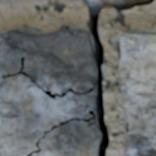brick: (0, 75, 95, 155), (0, 30, 96, 92), (119, 33, 155, 155), (33, 120, 100, 155)
crack: (0, 0, 154, 155)
